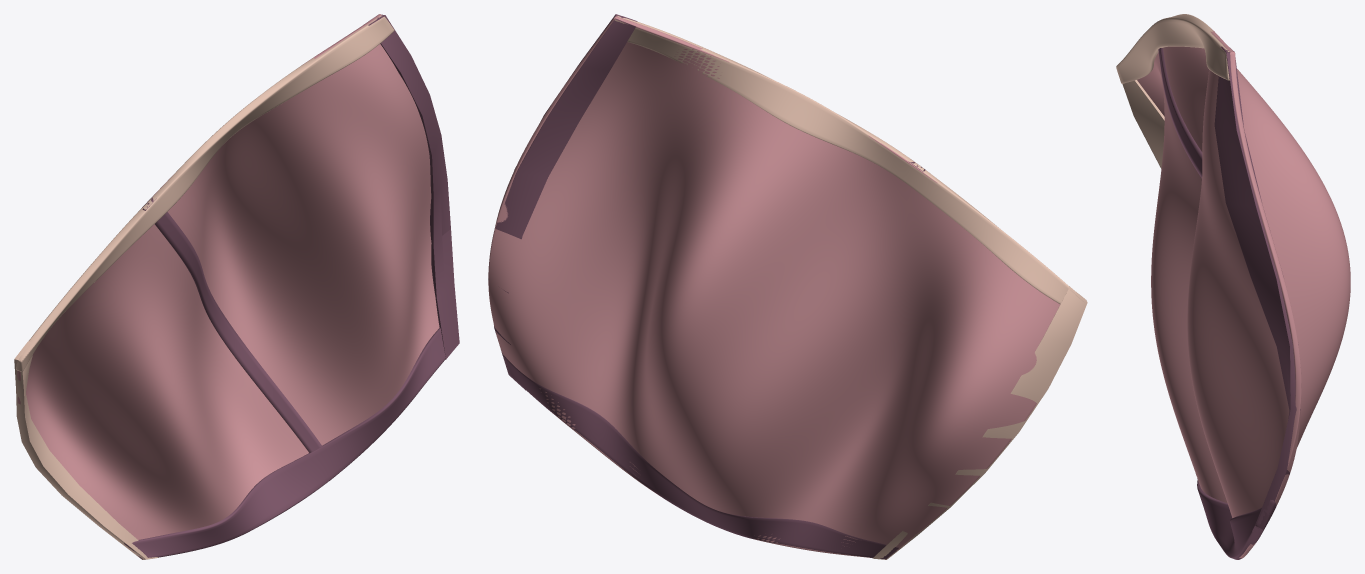
Rendered from bias-tension-sail.glb.
3 views of the same model, side by side, from view 1: azimuth 30°, elevation 25°; view 2: azimuth 150°, elevation 25°; view 3: azimuth 270°, elevation 25° (orthographic). The views are drawn at different scales.
Visible parts, largest first — view 1: load_bearing_sail, lower_weighted_hem, upper_tension_hem, right_anchored_edge, continuous_bias_seam, left_anchored_edge; view 2: load_bearing_sail, upper_tension_hem, lower_weighted_hem, right_anchored_edge, left_anchored_edge; view 3: load_bearing_sail, right_anchored_edge, upper_tension_hem, lower_weighted_hem, left_anchored_edge, continuous_bias_seam.
Boxes of the visible parts, bbox=[...] form: load_bearing_sail: bbox=[17, 14, 439, 539]; lower_weighted_hem: bbox=[124, 328, 458, 559]; upper_tension_hem: bbox=[16, 15, 394, 371]; right_anchored_edge: bbox=[368, 14, 459, 359]; continuous_bias_seam: bbox=[141, 196, 331, 479]; left_anchored_edge: bbox=[14, 341, 157, 559]; load_bearing_sail: bbox=[488, 16, 1060, 557]; upper_tension_hem: bbox=[614, 16, 1086, 304]; lower_weighted_hem: bbox=[501, 352, 898, 559]; right_anchored_edge: bbox=[488, 14, 637, 390]; left_anchored_edge: bbox=[872, 286, 1087, 559]; load_bearing_sail: bbox=[1137, 28, 1350, 558]; right_anchored_edge: bbox=[1214, 46, 1300, 535]; upper_tension_hem: bbox=[1116, 14, 1229, 83]; lower_weighted_hem: bbox=[1197, 478, 1276, 559]; left_anchored_edge: bbox=[1117, 62, 1164, 168]; continuous_bias_seam: bbox=[1158, 48, 1238, 559].
Size of the model in its own units: 194 by 176 by 65.69.
